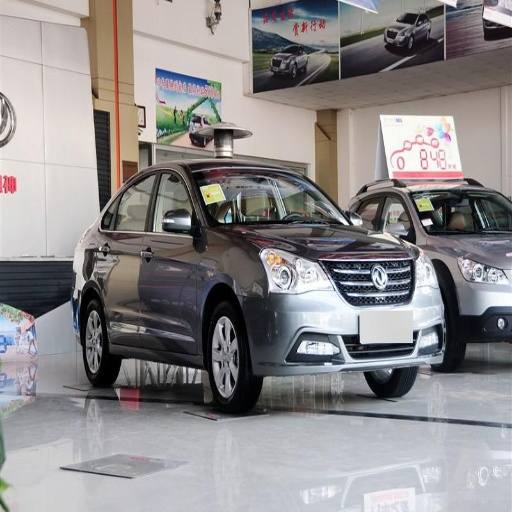front_bumper: (244, 259, 446, 375)
front_right_door: (140, 167, 198, 340)
front_right_light: (259, 247, 327, 293)
